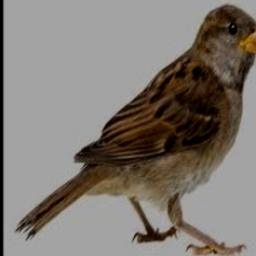Sparrow: (15, 5, 256, 255)
